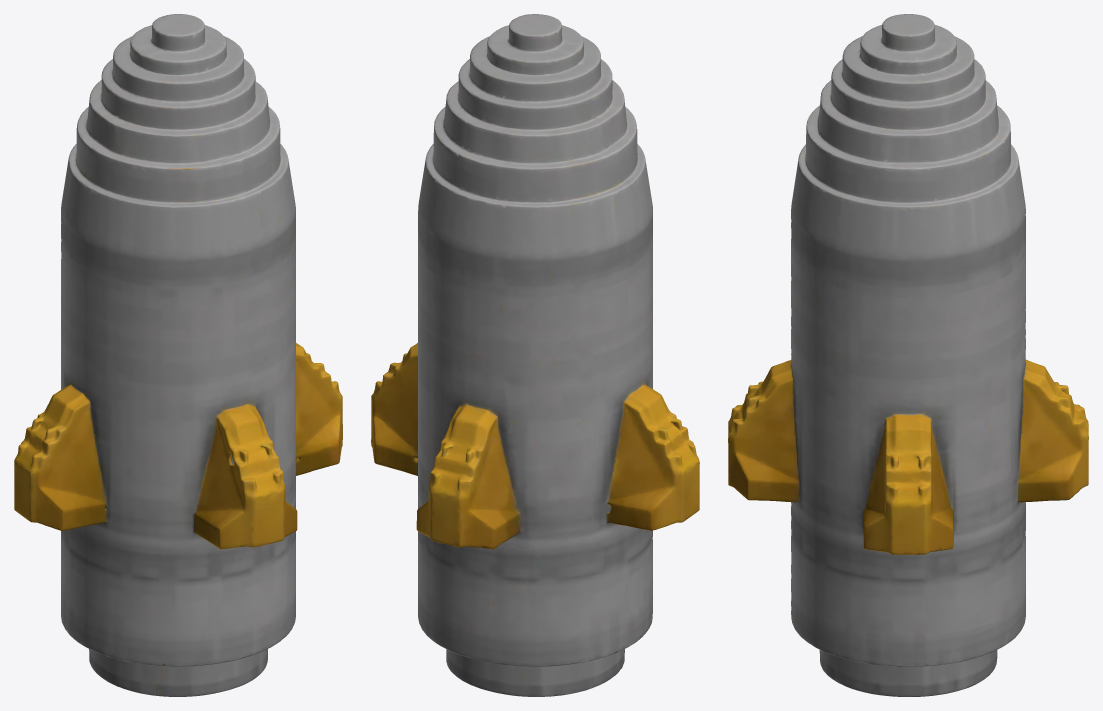
The model's file is ROCKA0_2026-08-09T165252.623.glb.
3 views of the same model, side by side, from view 1: azimuth 30°, elevation 25°; view 2: azimuth 150°, elevation 25°; view 3: azimuth 270°, elevation 25° (orthographic).
Parts seen in each view (by area): view 1: world; view 2: world; view 3: world.
Part boxes in pixels (x1,y1,x2,y2): world: [14, 14, 342, 696]; world: [371, 14, 699, 696]; world: [728, 14, 1088, 696].
Bounding box in the file's own units: 0.5166 × 1 × 0.5162.
1 material, 1 textured.
